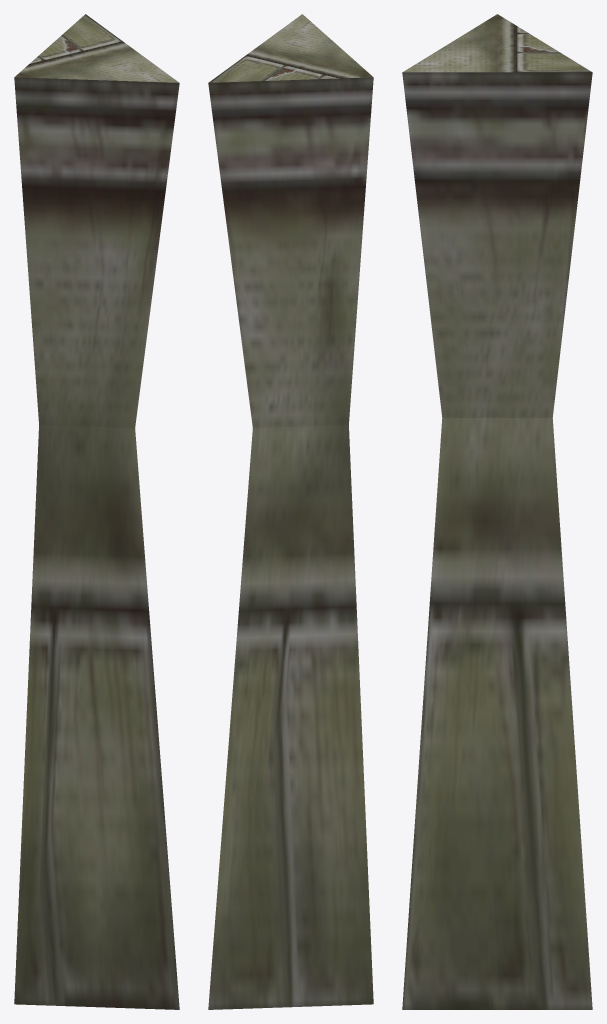
Rendered from Holzpfeiler_2358.glb.
3 views of the same model, side by side, from view 1: azimuth 30°, elevation 25°; view 2: azimuth 150°, elevation 25°; view 3: azimuth 270°, elevation 25° (orthographic).
Visible parts, largest first — view 1: pCylinderShape110; view 2: pCylinderShape110; view 3: pCylinderShape110.
Boxes of the visible parts, <box> form: pCylinderShape110: <box>14,14,179,1009</box>; pCylinderShape110: <box>208,14,373,1009</box>; pCylinderShape110: <box>402,14,592,1009</box>.
Size of the model in its own units: 0.0381 by 0.285 by 0.0525.
1 material, 1 textured.
